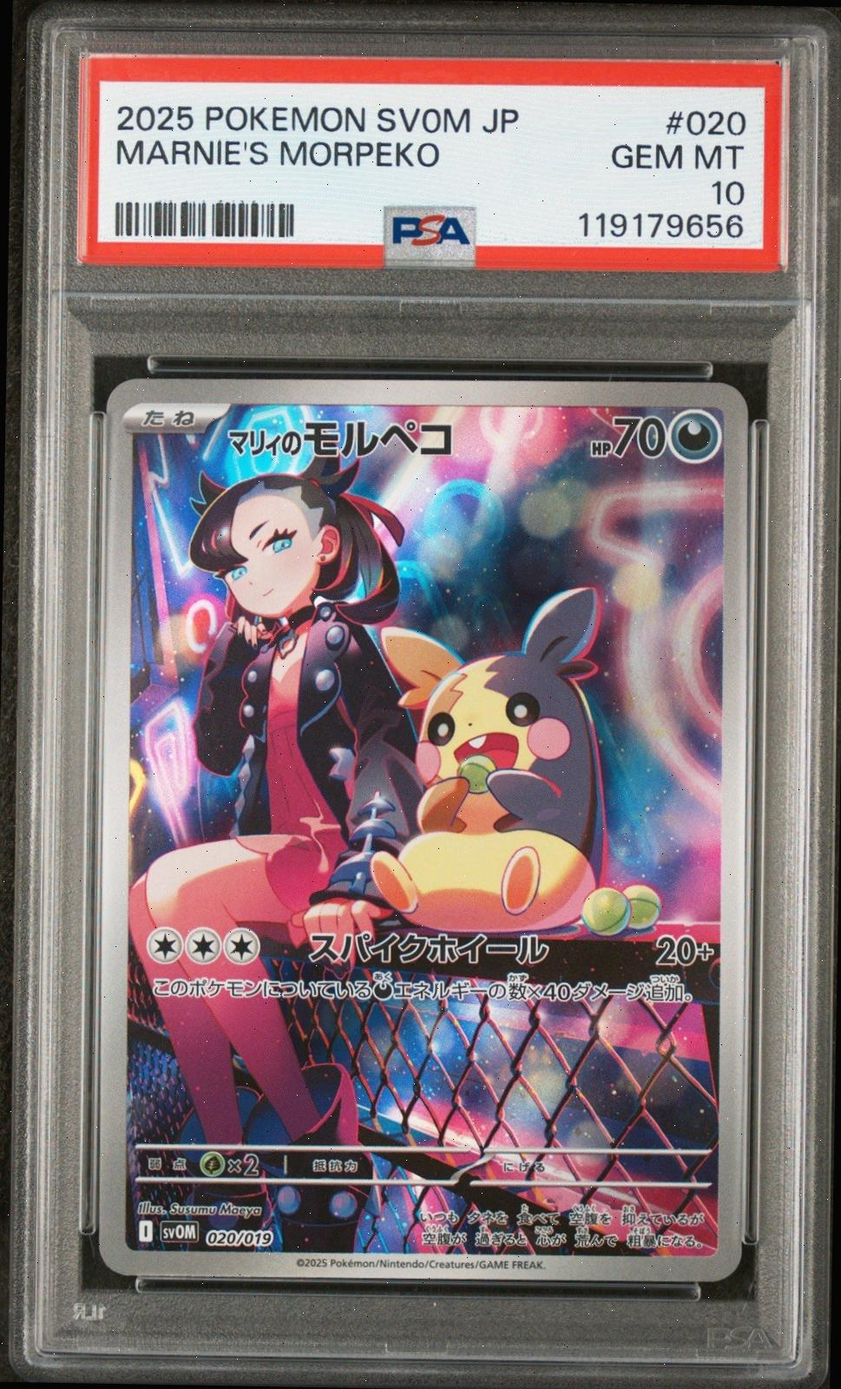card-2UtV: (97, 377, 749, 1283)
